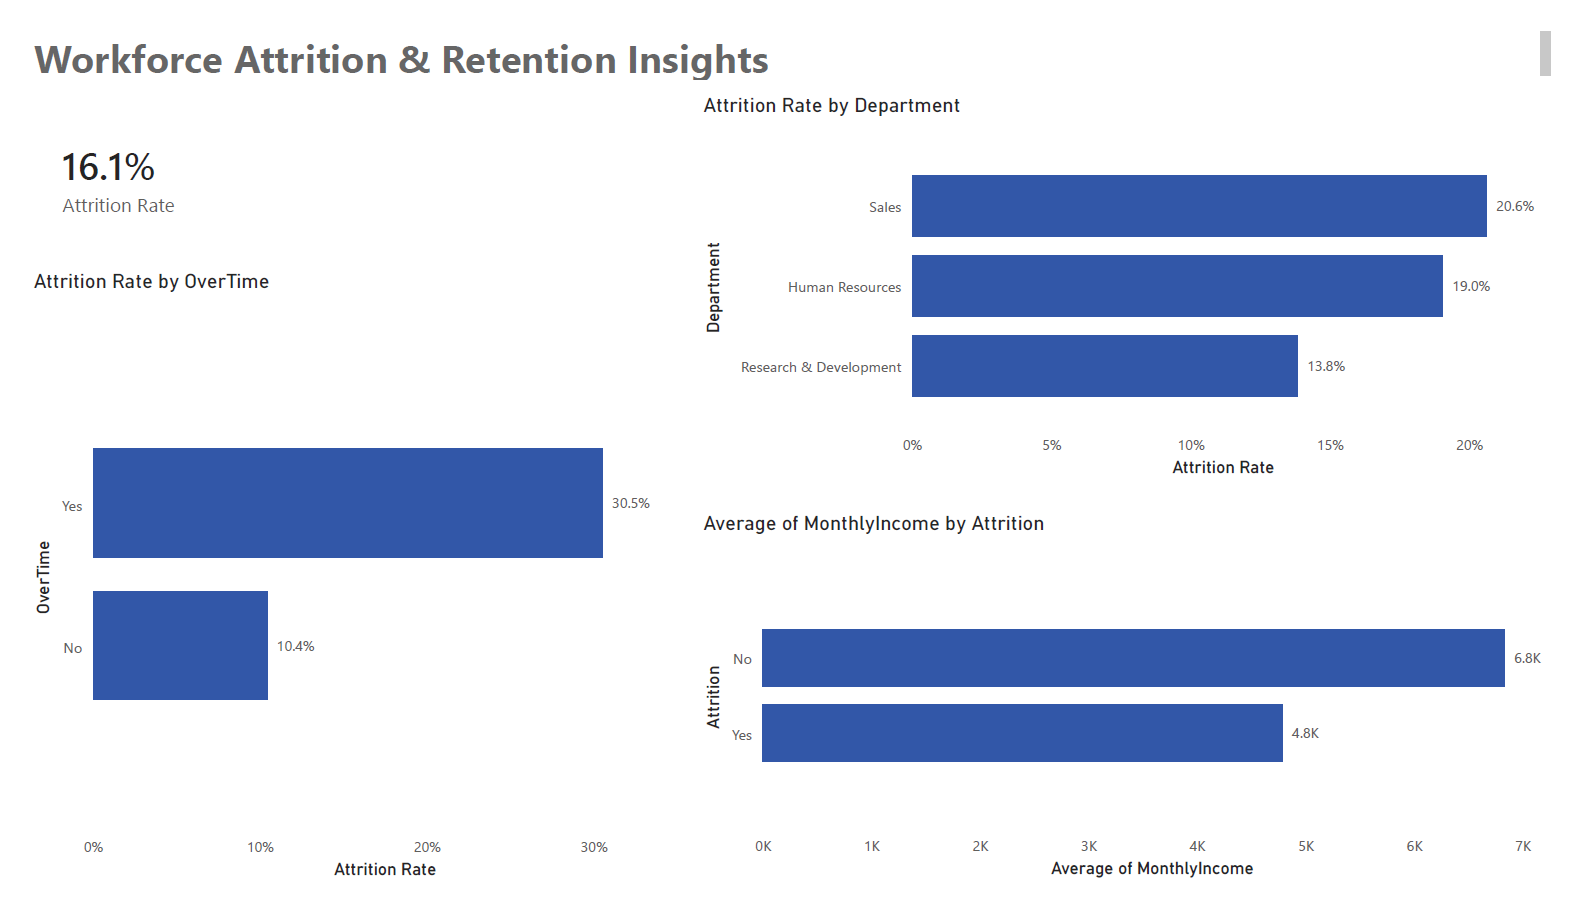

What the dashboard file says about the page in this screenshot:
{"tool":"powerbi","page":{"name":"Page 1","canvas":[1280,720],"ordinal":0},"visuals":[{"type":"cardVisual","fields":{"Data":["HR-Employee-Attrition.Attrition Rate"]},"box":[0,49.6,514,154.4],"z":0},{"type":"clusteredBarChart","fields":{"Category":["HR-Employee-Attrition.Department"],"Y":["HR-Employee-Attrition.Attrition Rate"]},"box":[561.3,56.4,718,326.9],"z":1},{"type":"clusteredBarChart","fields":{"Category":["HR-Employee-Attrition.OverTime"],"Y":["HR-Employee-Attrition.Attrition Rate"]},"box":[0,204,561.3,516.2],"z":2},{"type":"clusteredBarChart","fields":{"Category":["HR-Employee-Attrition.Attrition"],"Y":["Avg(HR-Employee-Attrition.MonthlyIncome)"]},"box":[561.3,405.8,719.1,313.3],"z":3},{"type":"textbox","box":[0,0,1280.4,49.6],"z":4}]}

Visuals, with their boxes in screenshot pixels (x1, y1, x2, y2), scaled from the page's 1280x720 canvas onto the 1572x910 screenshot:
cardVisual - HR-Employee-Attrition.Attrition Rate: [0, 63, 631, 258]
clusteredBarChart - HR-Employee-Attrition.Department x HR-Employee-Attrition.Attrition Rate: [689, 71, 1571, 484]
clusteredBarChart - HR-Employee-Attrition.OverTime x HR-Employee-Attrition.Attrition Rate: [0, 258, 689, 909]
clusteredBarChart - HR-Employee-Attrition.Attrition x Avg(HR-Employee-Attrition.MonthlyIncome): [689, 513, 1571, 909]
textbox: [0, 0, 1571, 63]
